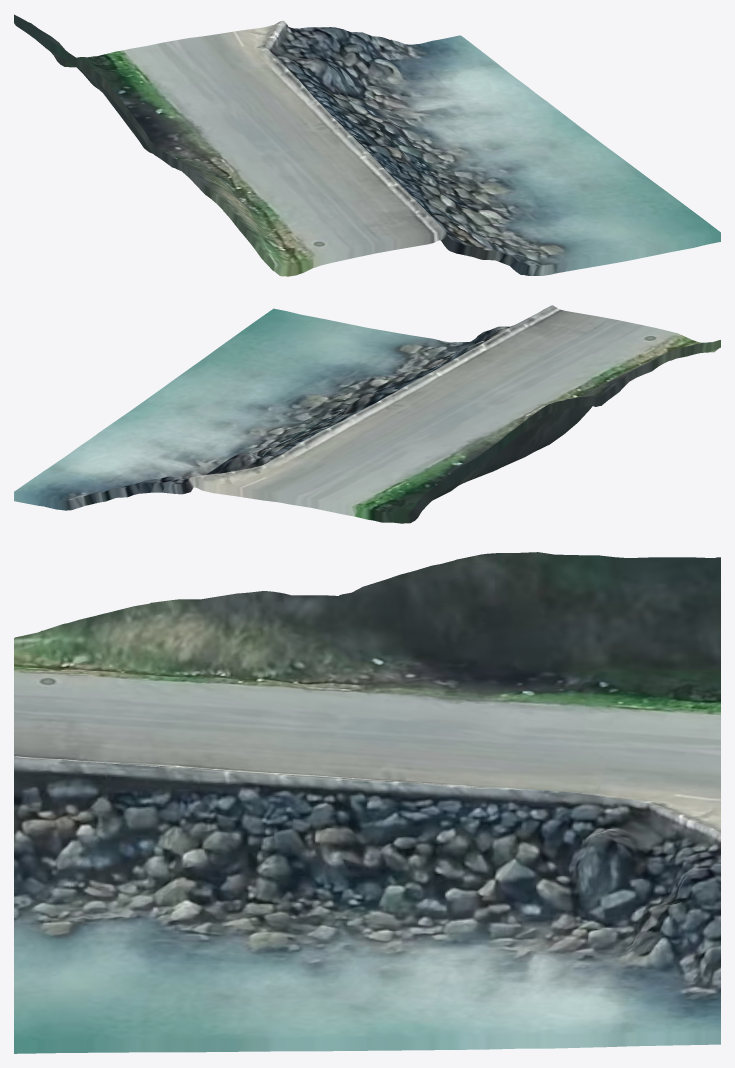
File: z20-167554-405170-h0-yup-uvflip-v3-world.glb
3 renders of one model, top to bottom at view 1: azimuth 30°, elevation 25°; view 2: azimuth 150°, elevation 25°; view 3: azimuth 270°, elevation 25°, orthographic. The views are drawn at different scales.
Size of the model in its own units: 30.16 by 9.68 by 30.32.
Materials: 1 (1 with a texture image).
